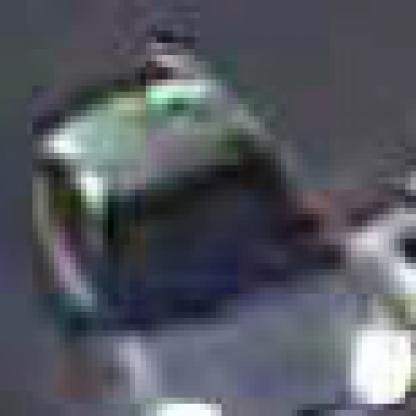car: (28, 50, 406, 411)
